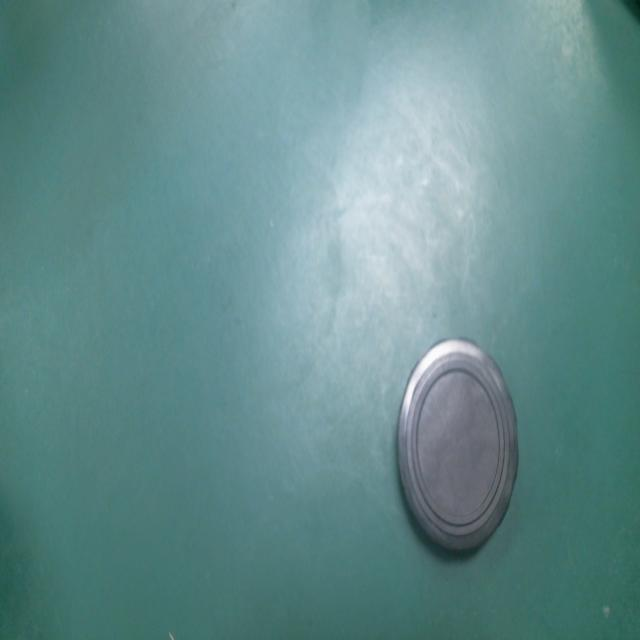cover: (386, 317, 531, 580)
